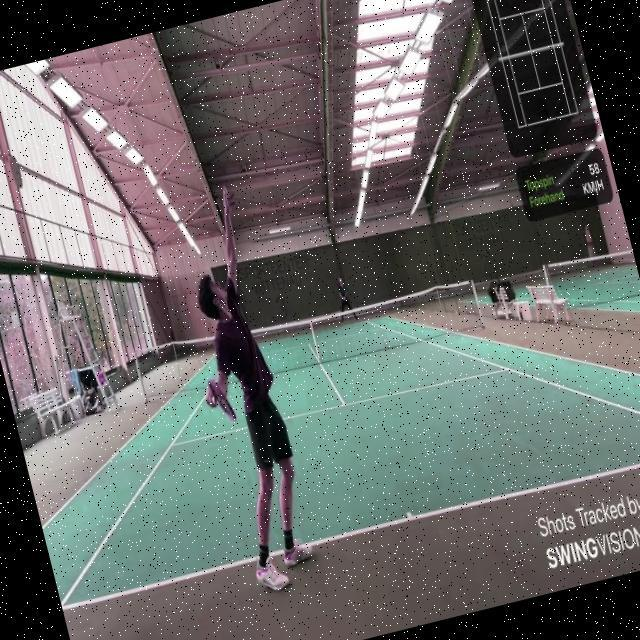court: (11, 248, 640, 612)
net: (128, 265, 486, 409)
player: (156, 182, 330, 598)
